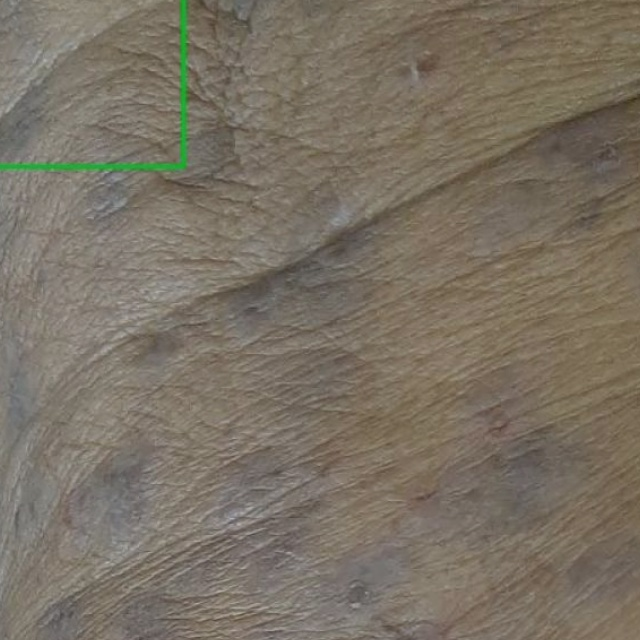Contact Dermatitis: (0, 0, 183, 166)
